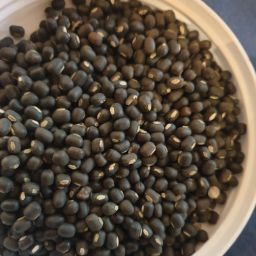Black Gram(urad daal): (105, 6, 240, 251), (9, 71, 243, 206), (49, 1, 156, 256), (1, 23, 87, 256)
